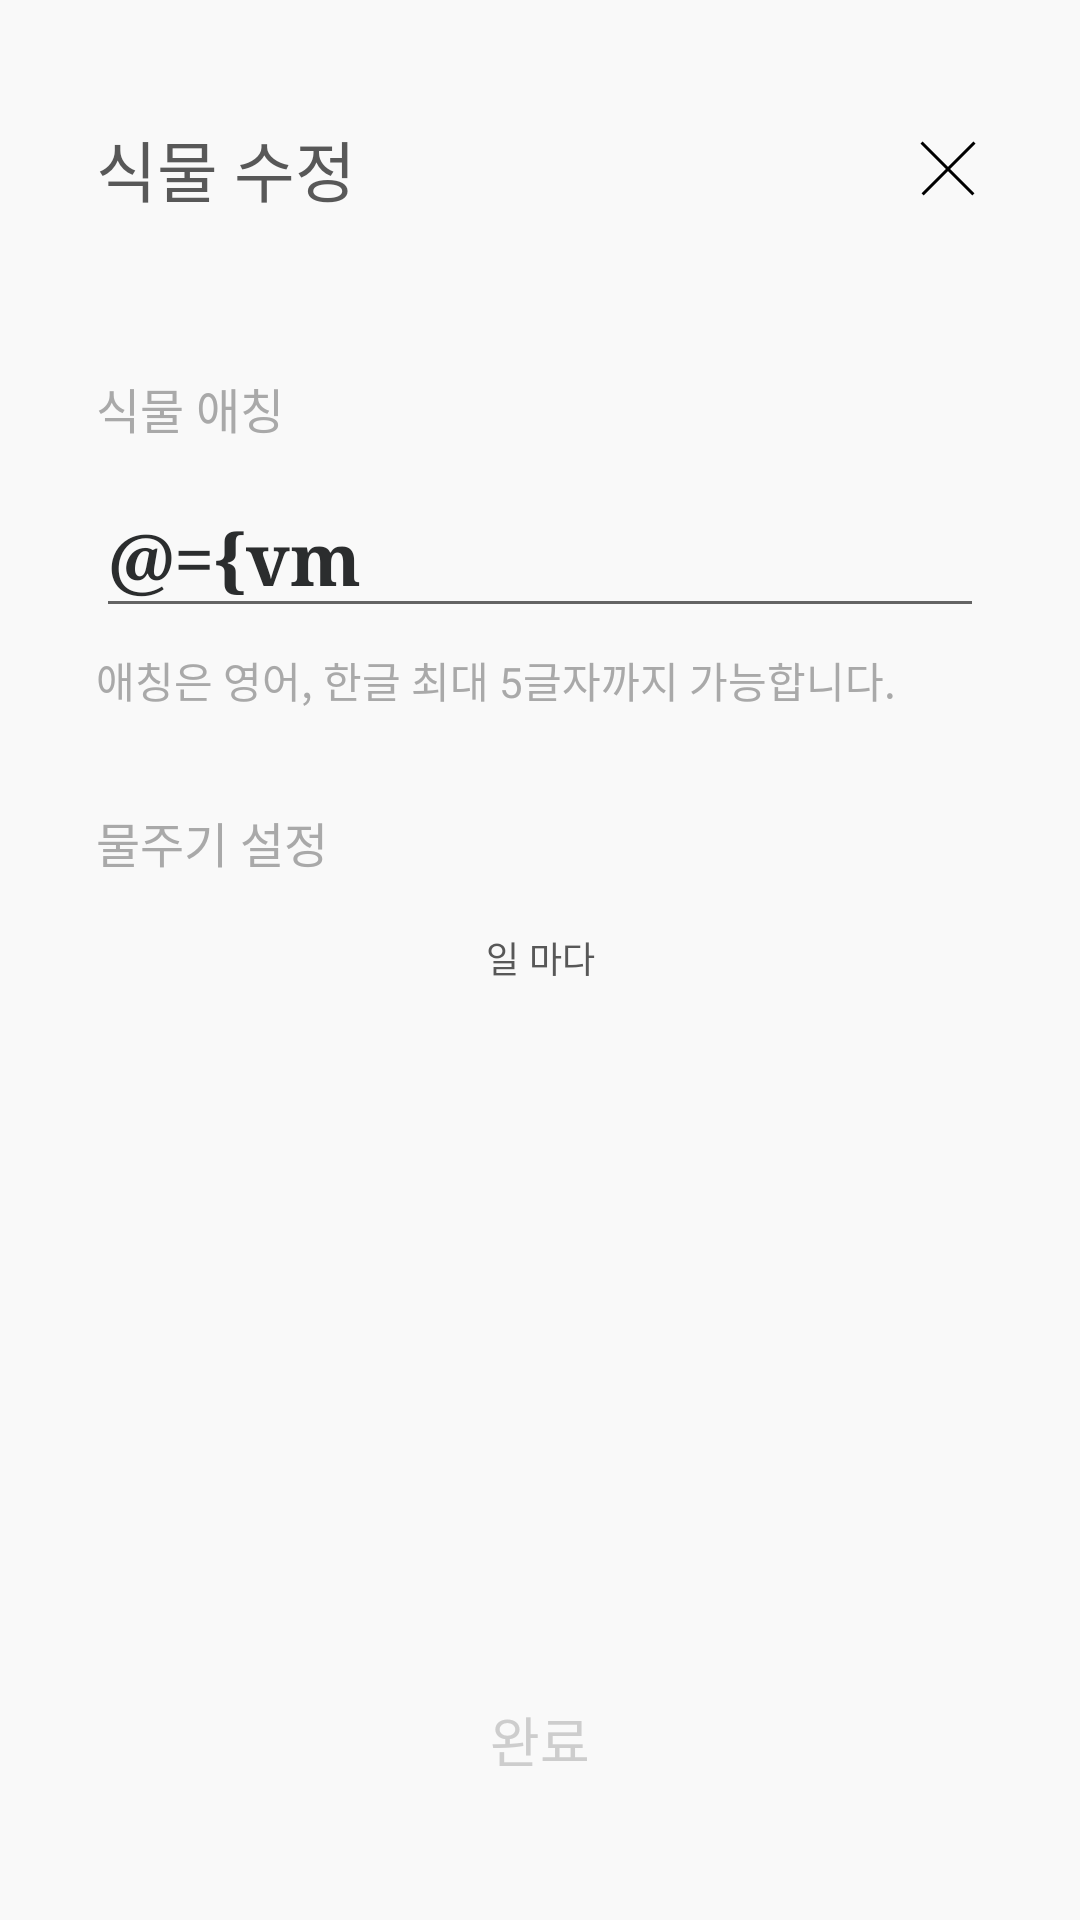

Screen size 1080 x 1920. Icon name, then its center in pixels as point (x, y):
delete: point (948, 168)
